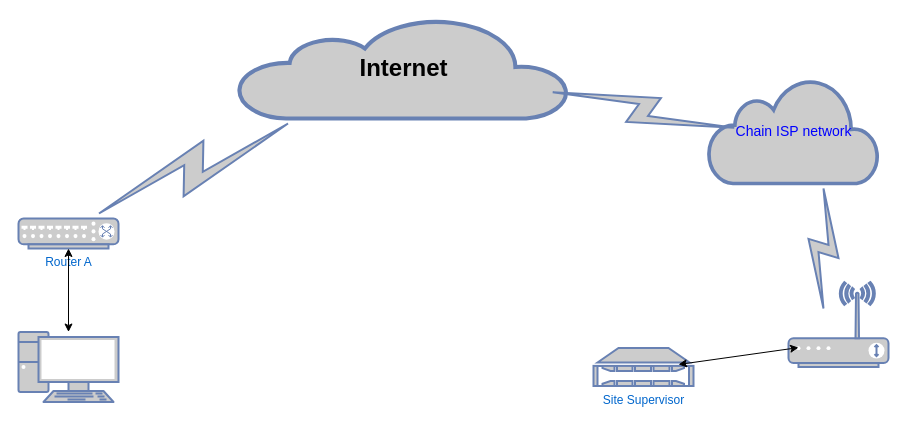
The diagram is 906 pixels wide and 440 high, and some of its shapes have lost their labels. Each missing label, with the centre of its shape:
"PC" goes at [68,366].
"Route B" goes at [838,324].
